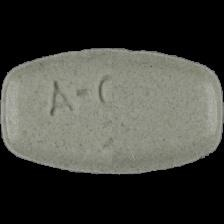16590-323: (0, 0, 224, 224)
